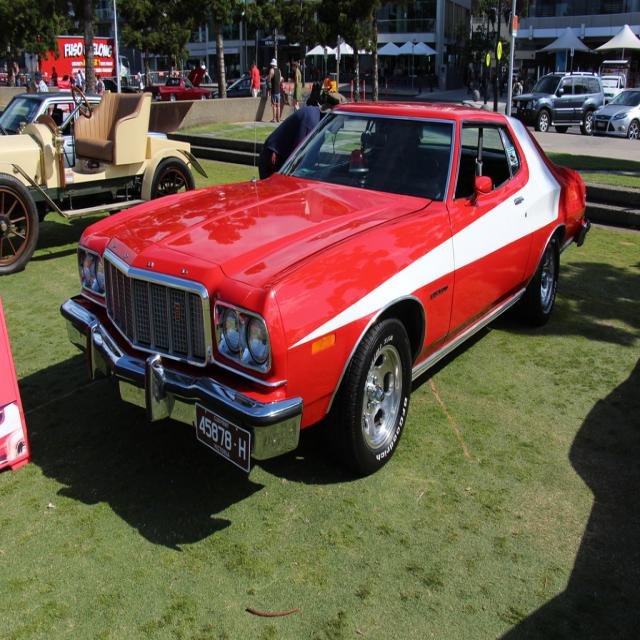car: (58, 89, 575, 499)
